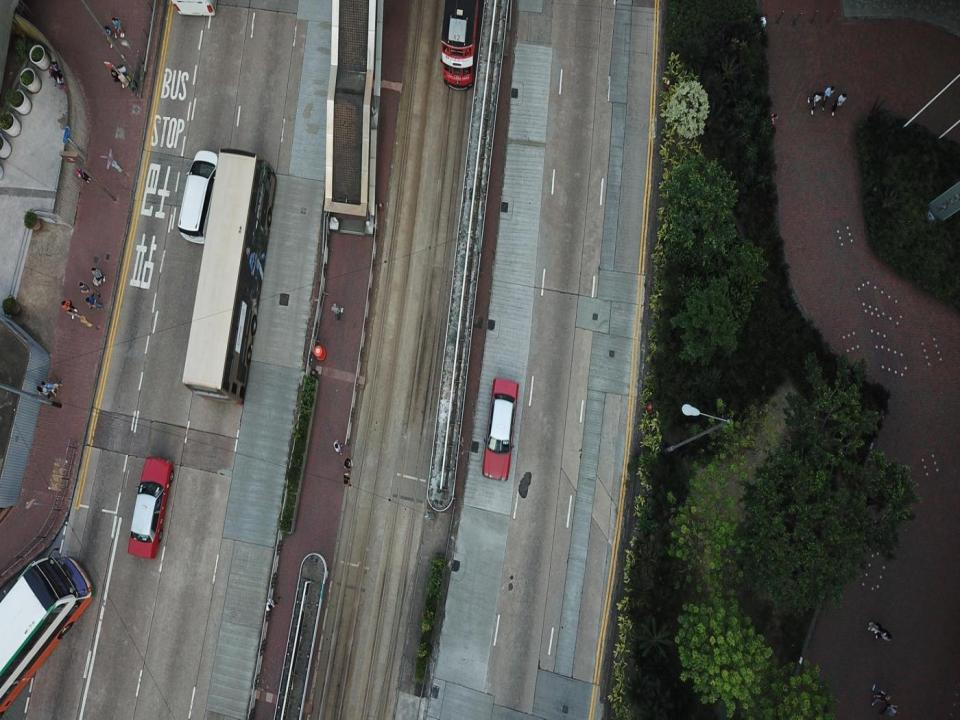bus: (183, 151, 276, 404), (0, 556, 95, 719), (441, 1, 485, 90)
car: (128, 455, 174, 561), (178, 150, 221, 244), (483, 378, 520, 481)
